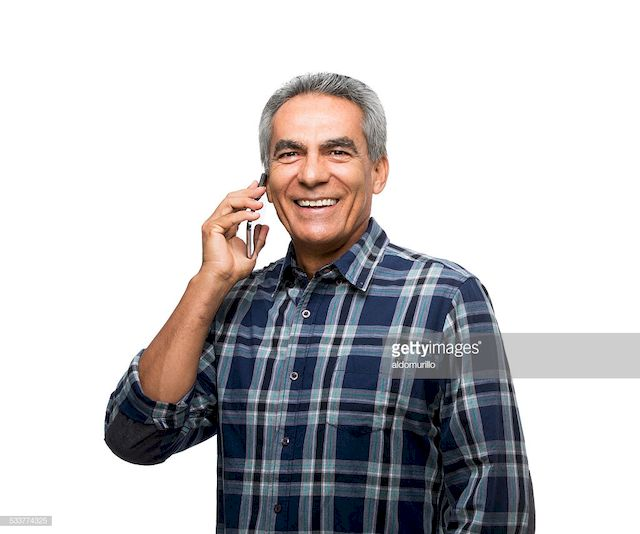phone: (246, 169, 273, 259)
talk: (204, 129, 367, 279)
